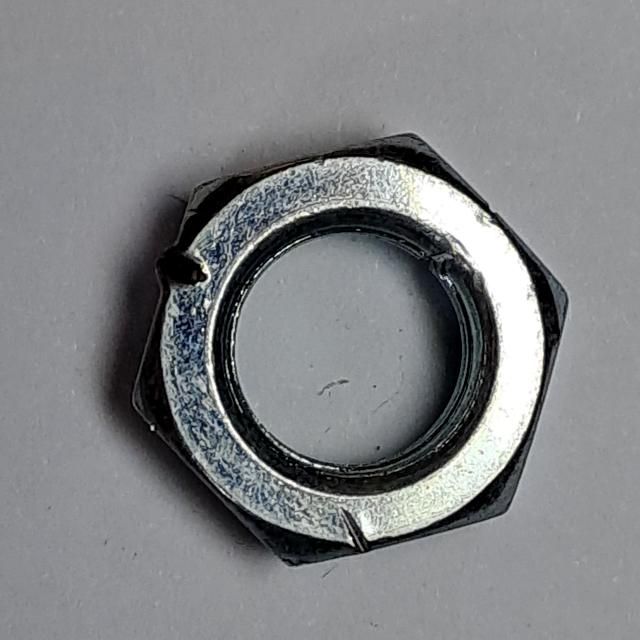Scratches: (119, 121, 583, 581)
